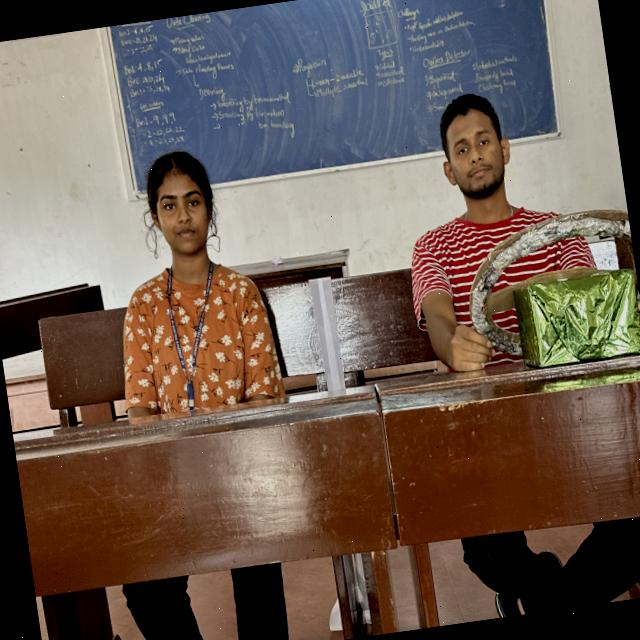Helmet: (398, 192, 608, 364), (109, 247, 289, 411)
